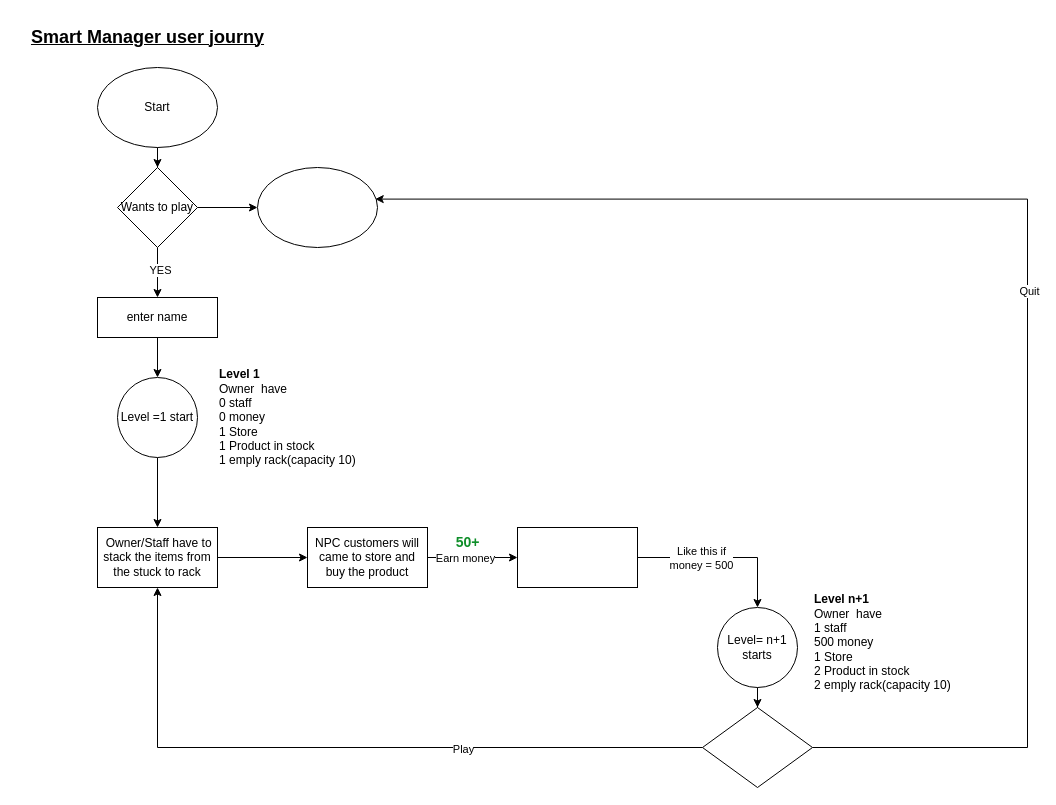
This 1056x805 diagram has some shape labels left out. Each missing label, with the centre of its shape:
50 mony will added to the owner: (577,557)
Exit: (317,207)
Want to play/ quit: (757,747)
